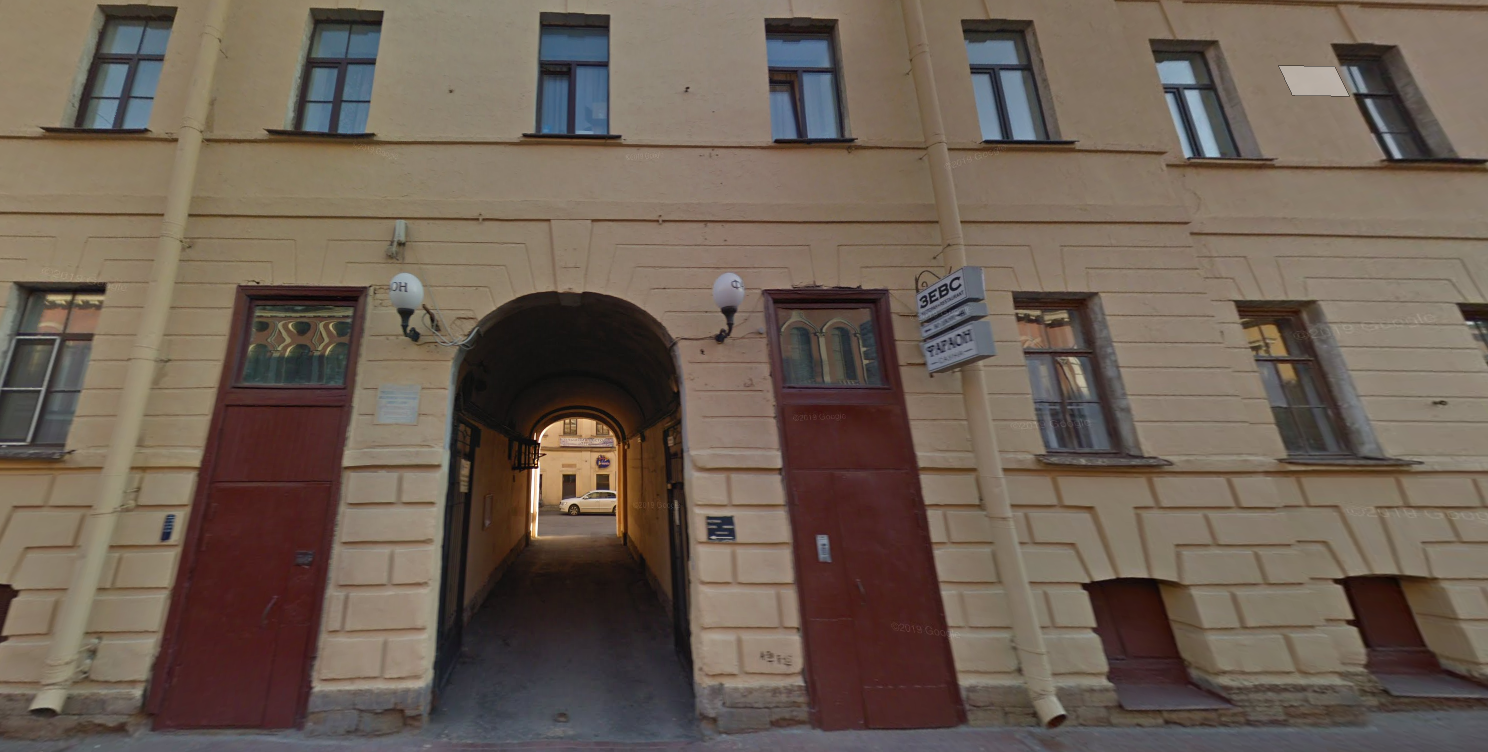arch: (412, 292, 705, 734)
cantilever: (901, 245, 999, 382)
door: (151, 391, 354, 724), (787, 389, 964, 728)
window: (1237, 295, 1368, 457), (1006, 288, 1126, 457), (1, 288, 106, 453), (230, 283, 355, 388), (1333, 43, 1436, 163), (72, 13, 180, 126), (283, 15, 383, 130), (962, 20, 1054, 142), (774, 293, 895, 385), (1149, 49, 1245, 161), (532, 17, 608, 133), (765, 23, 833, 145)
